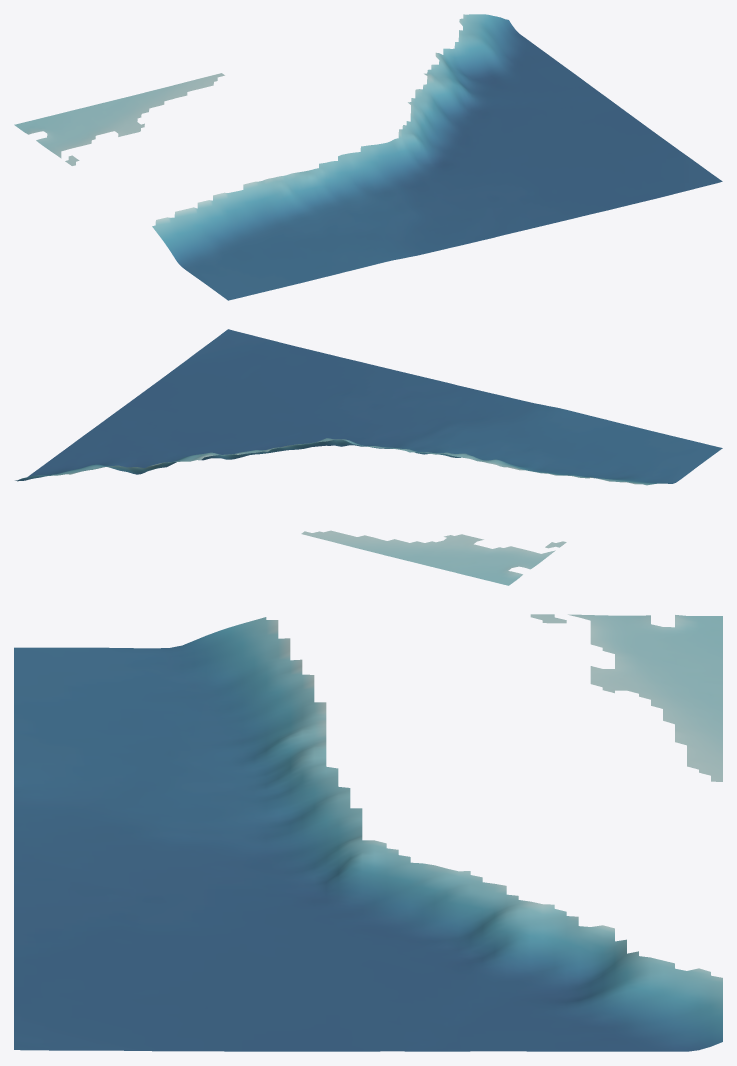
File: retry3d-baikal-depth.glb
The picture shows the model from 3 angles, top to bottom: view 1: azimuth 30°, elevation 25°; view 2: azimuth 150°, elevation 25°; view 3: azimuth 270°, elevation 25°; orthographic projection. The views are drawn at different scales.
Visible parts, largest first — view 1: baikal-depth; view 2: baikal-depth; view 3: baikal-depth.
Boxes of the visible parts, left/top/right/bottom form: baikal-depth: left=14, top=14, right=722, bottom=300; baikal-depth: left=15, top=329, right=722, bottom=585; baikal-depth: left=14, top=614, right=722, bottom=1051.
Size of the model in its own units: 36504 by 1654 by 27366.
